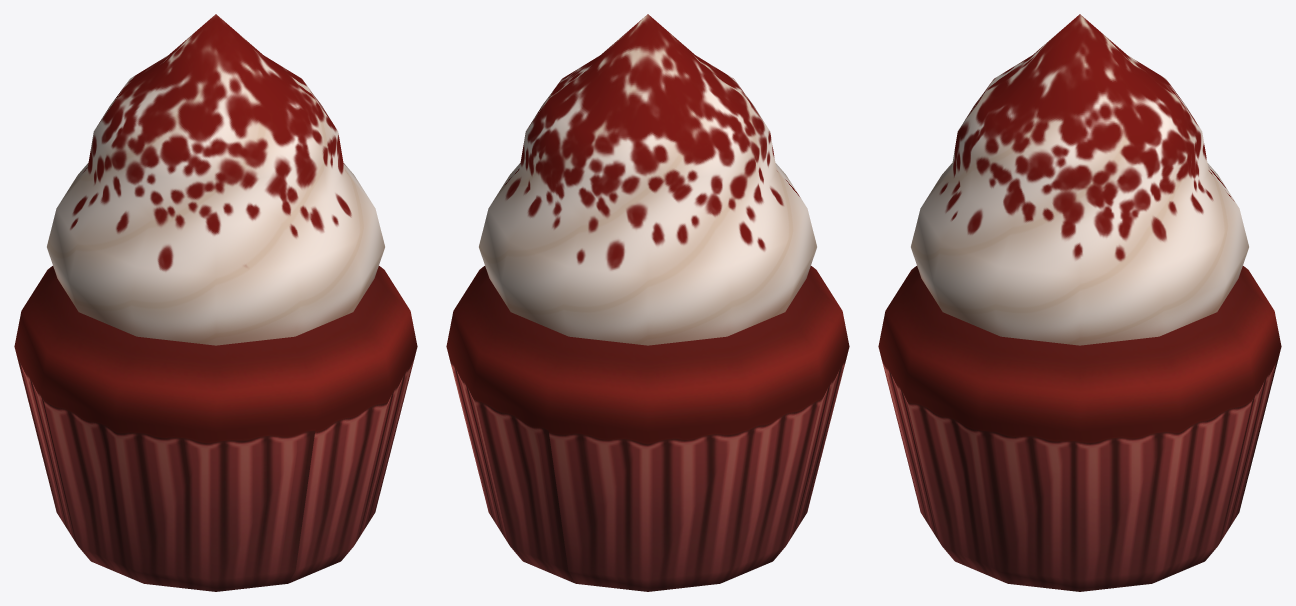
The model's file is Cupcake_Velvet.fbx.
3 views of the same model, side by side, from view 1: azimuth 30°, elevation 25°; view 2: azimuth 150°, elevation 25°; view 3: azimuth 270°, elevation 25° (orthographic).
Visible parts, largest first — view 1: Cupcake_Velvet; view 2: Cupcake_Velvet; view 3: Cupcake_Velvet.
Boxes of the visible parts, left/top/right/bottom form: Cupcake_Velvet: left=14, top=14, right=417, bottom=591; Cupcake_Velvet: left=446, top=14, right=849, bottom=591; Cupcake_Velvet: left=878, top=14, right=1281, bottom=591.
Bounding box in the file's own units: 39.68 × 56.14 × 39.68.
